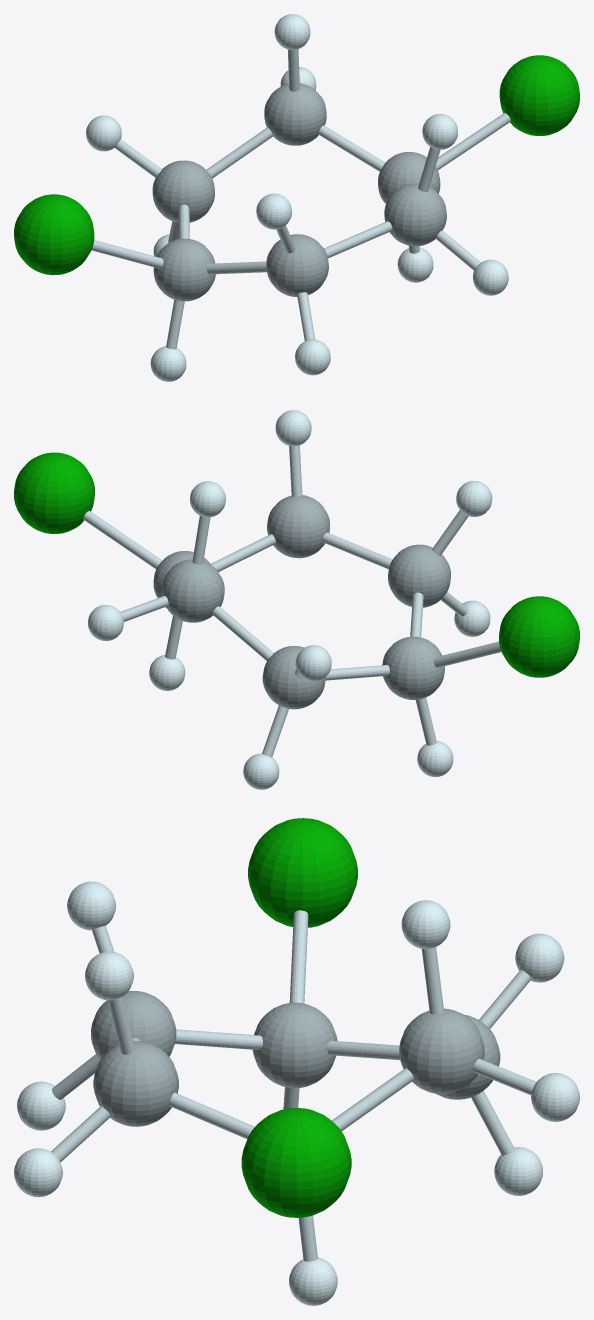
File: irc_step_075.glb
The picture shows the model from 3 angles, top to bottom: view 1: azimuth 30°, elevation 25°; view 2: azimuth 150°, elevation 25°; view 3: azimuth 270°, elevation 25°; orthographic projection. The views are drawn at different scales.
Visible parts, largest first — view 1: Renderer Node; view 2: Renderer Node; view 3: Renderer Node.
Part boxes in pixels (x1,y1,x2,y2): Renderer Node: (14, 14, 579, 381); Renderer Node: (14, 410, 579, 789); Renderer Node: (14, 818, 579, 1305).
Bounding box in the file's own units: 7.09 × 3.49 × 4.62.
